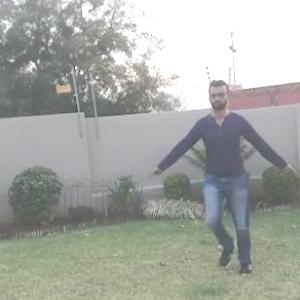land: (168, 92, 282, 250)
